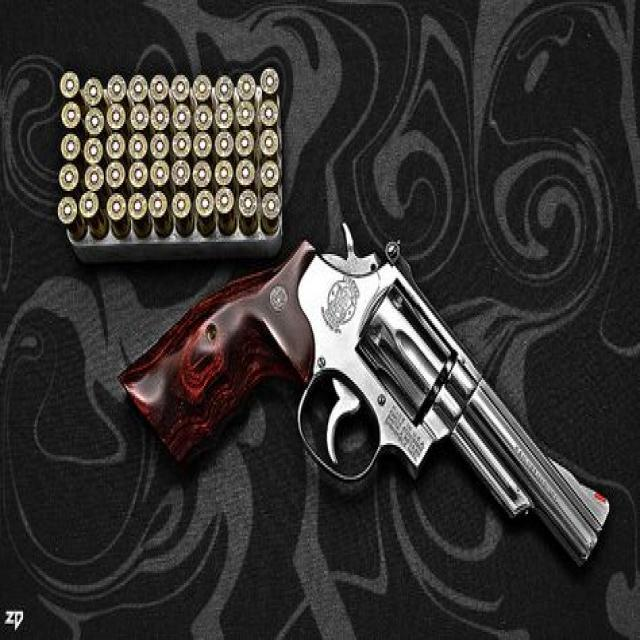revolver: (108, 215, 640, 626)
